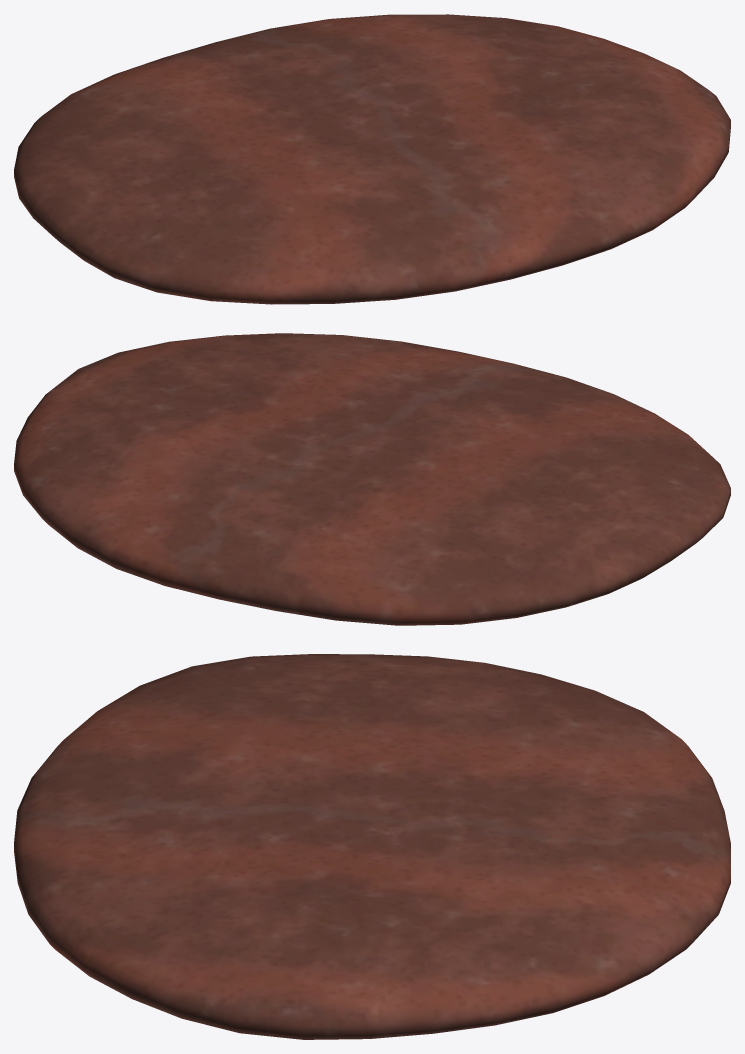
Rendered from red_sandstone_05.glb.
3 renders of one model, top to bottom at view 1: azimuth 30°, elevation 25°; view 2: azimuth 150°, elevation 25°; view 3: azimuth 270°, elevation 25°, orthographic. The views are drawn at different scales.
Visible parts, largest first — view 1: red_sandstone_05; view 2: red_sandstone_05; view 3: red_sandstone_05.
Boxes of the visible parts, x1=… form: red_sandstone_05: x1=14, y1=14, x2=730, y2=304; red_sandstone_05: x1=14, y1=333, x2=730, y2=625; red_sandstone_05: x1=14, y1=654, x2=730, y2=1039.
Size of the model in its own units: 0.0795 by 0.00828 by 0.0653.
Materials: 1 (1 with a texture image).
